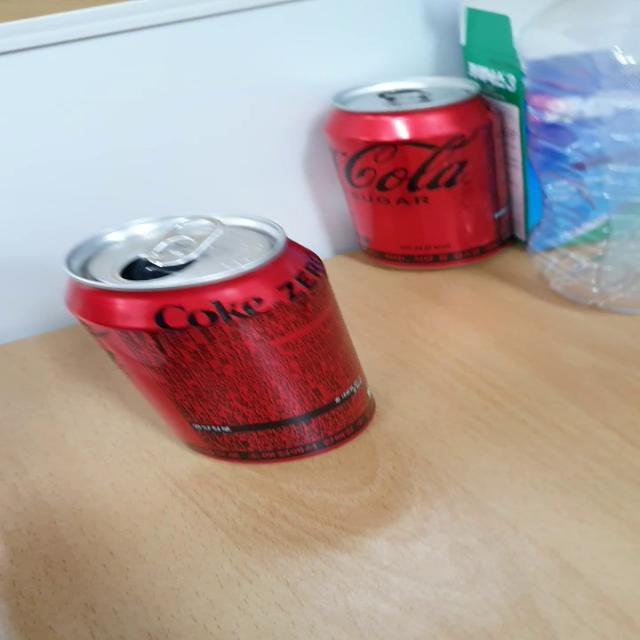coca-cola: (51, 208, 410, 468), (311, 68, 554, 280)
